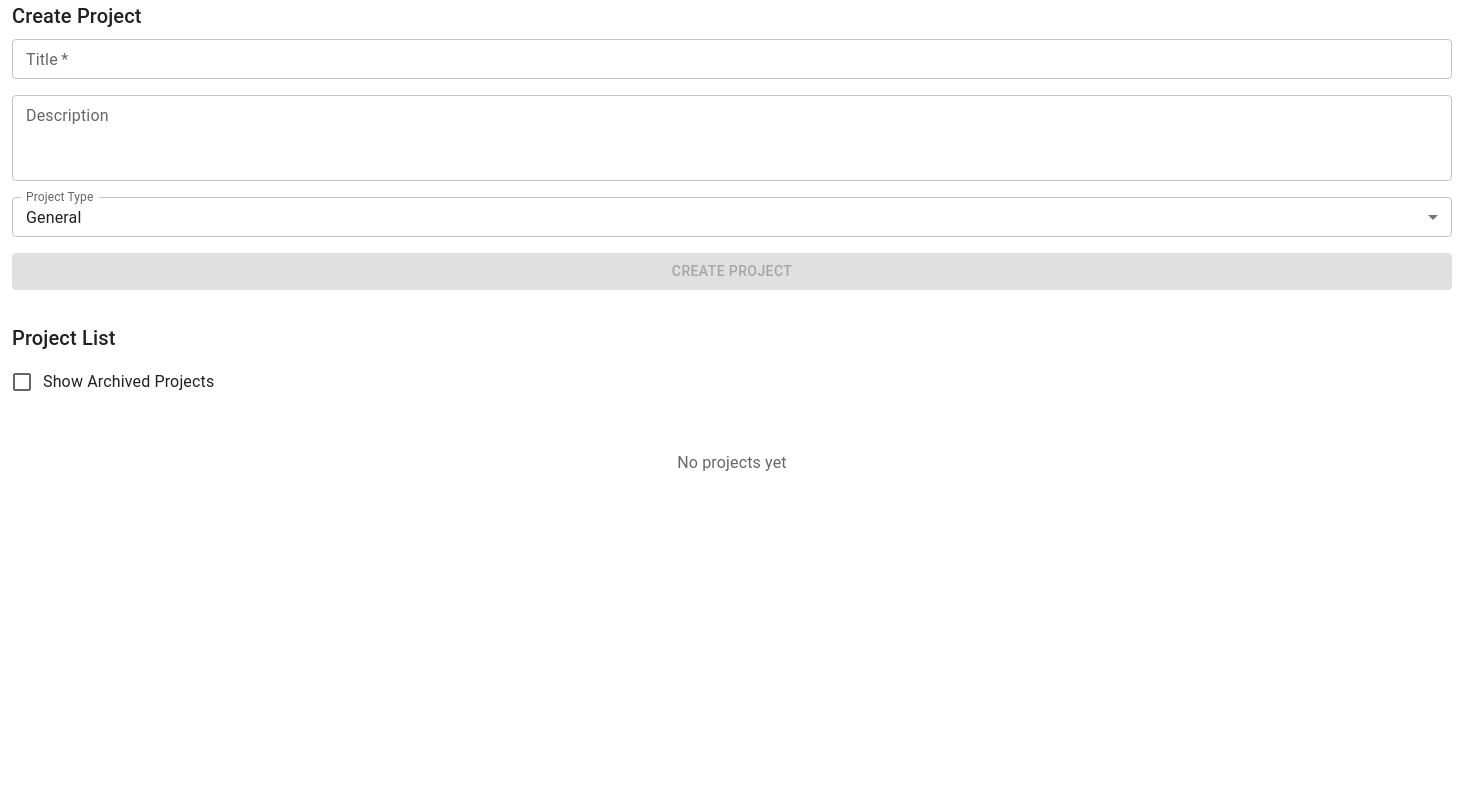
Scenario: ProjectsSection › refreshes project list after creating project without including archived projects
// Create project
Type "New Project" into the field labelled "Title *".
click(732, 59); type("New Project")  # box [12,39,1452,79]
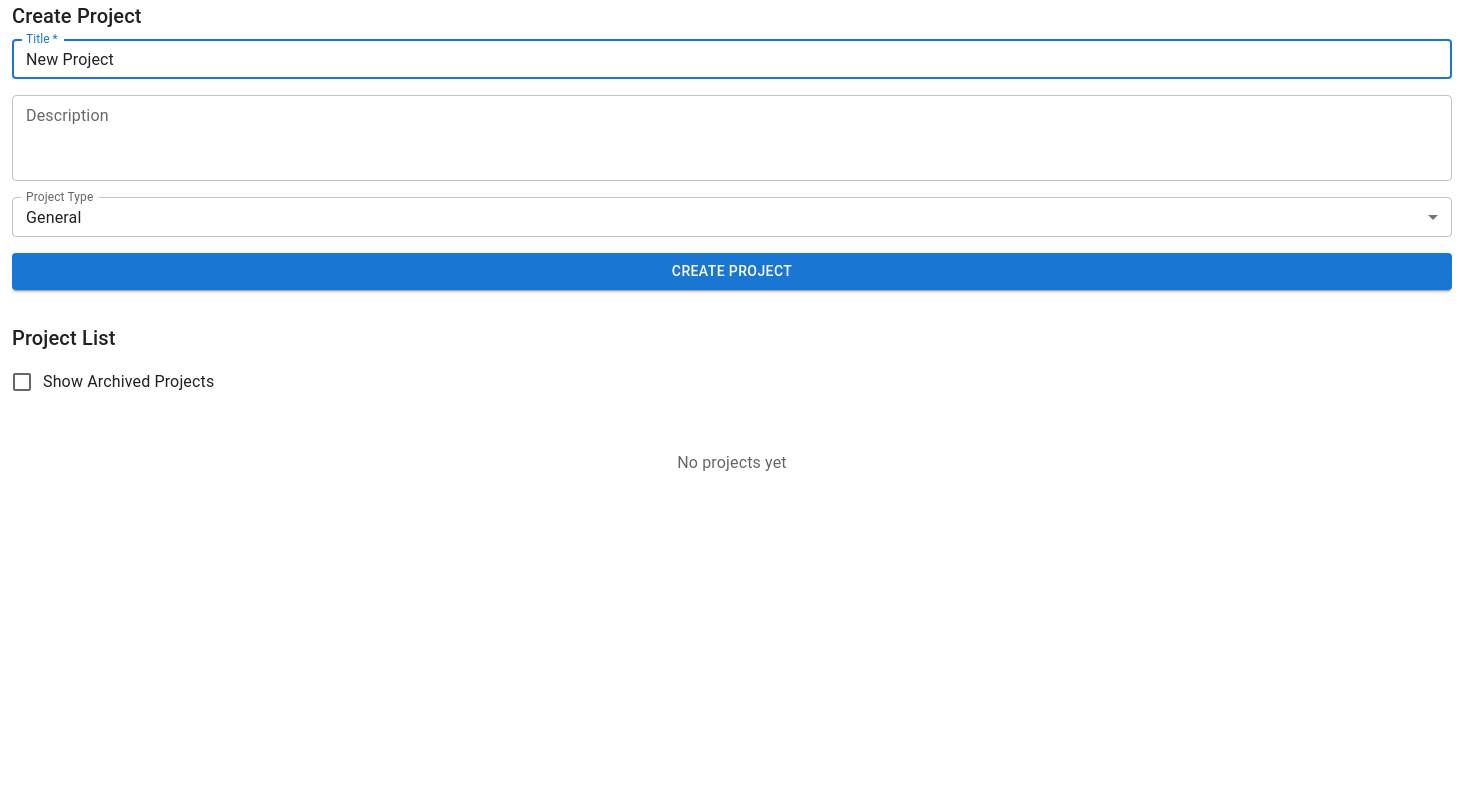
Click the button "Create Project".
click(732, 271)  # box [12,253,1452,290]
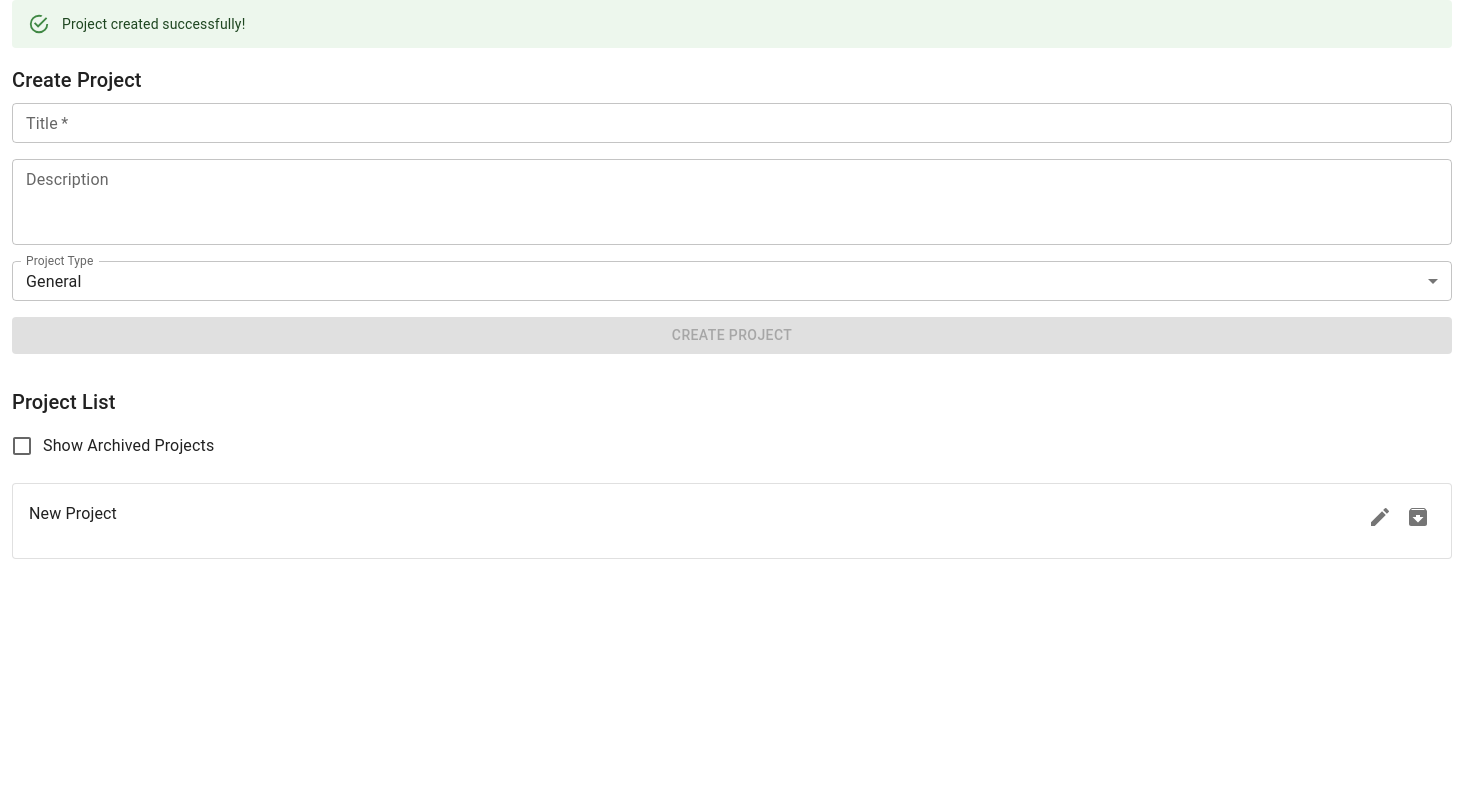
Expected: the heading "New Project" is shown, [29,500,117,528]
